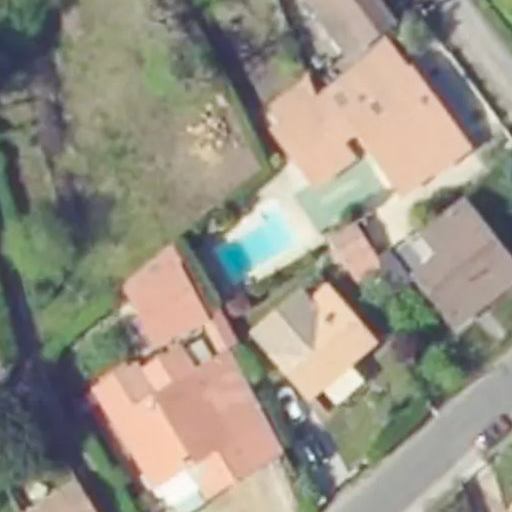pool: (211, 211, 299, 277)
